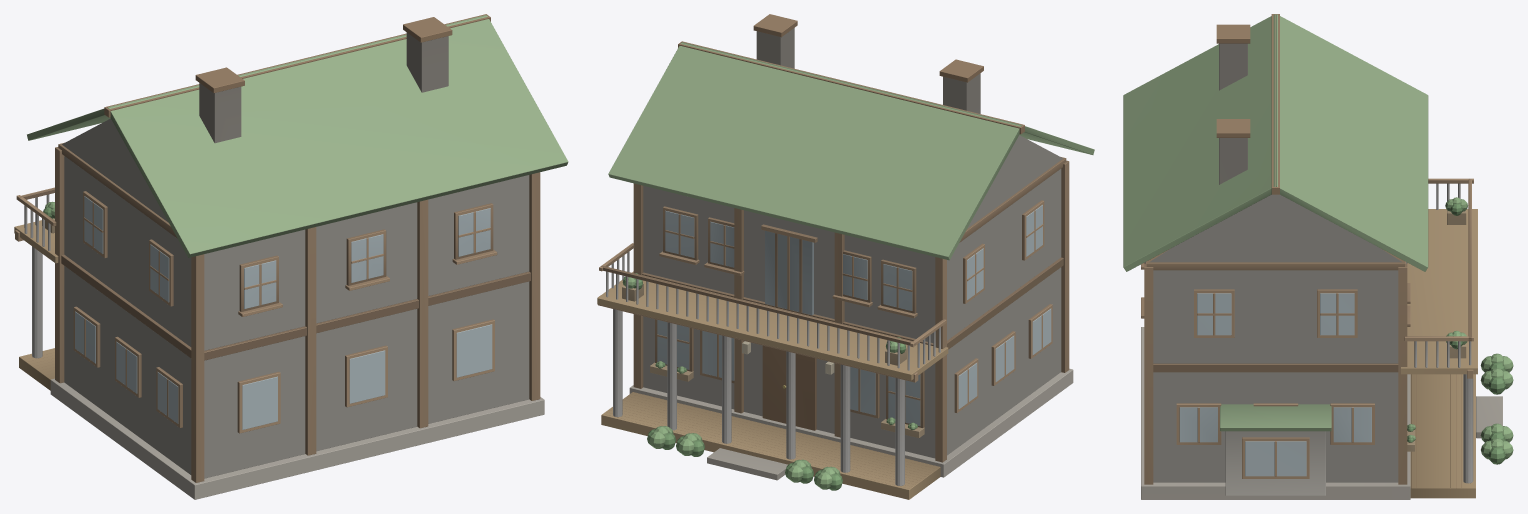
File: home_manor2__green.glb
The picture shows the model from 3 angles, left to right: view 1: azimuth 30°, elevation 25°; view 2: azimuth 150°, elevation 25°; view 3: azimuth 270°, elevation 25°; orthographic projection. The views are drawn at different scales.
Size of the model in its own units: 11.05 by 9.84 by 10.13.
